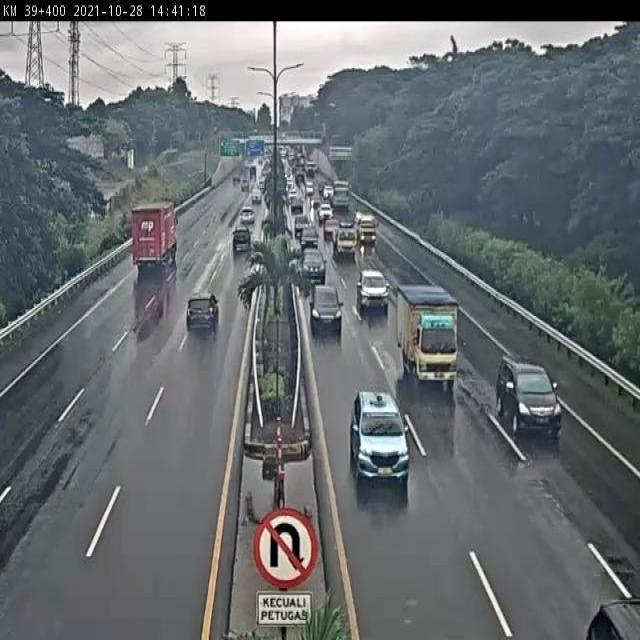car: (496, 356, 563, 439), (350, 389, 408, 482), (310, 284, 344, 332), (185, 292, 219, 336), (356, 270, 387, 314), (301, 249, 327, 283), (230, 224, 253, 252)
mid truck: (131, 201, 177, 267)
truck-m-: (396, 284, 461, 388)
